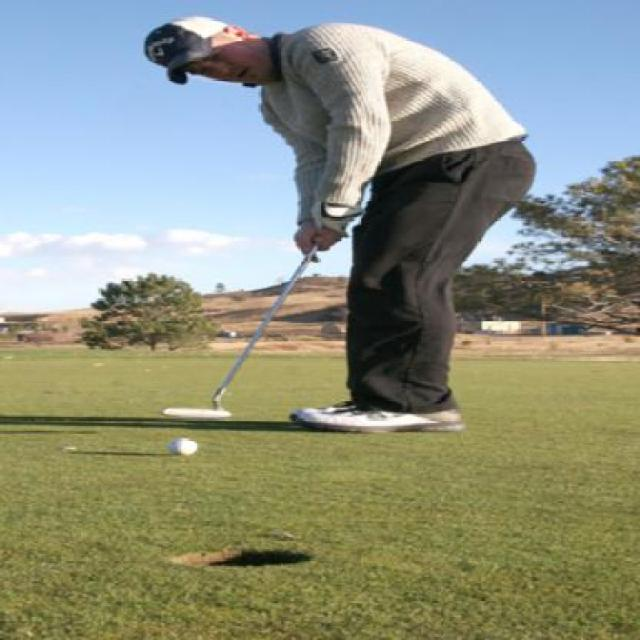club head: (158, 402, 234, 419)
